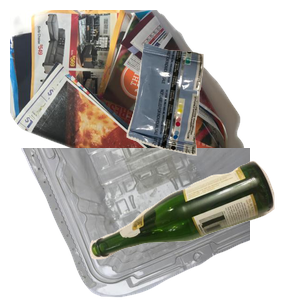glass: (87, 158, 300, 300)
paper: (10, 10, 250, 190)
plastic: (19, 148, 259, 300)
trash: (124, 40, 300, 188)
